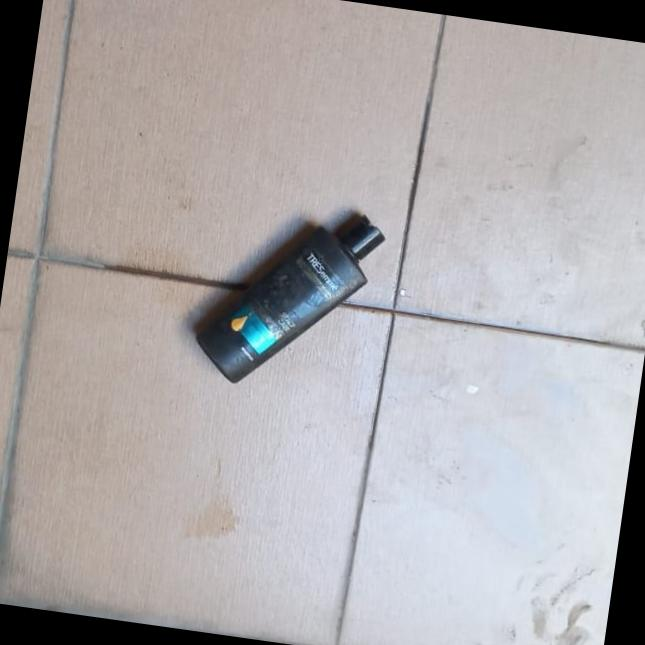Plastik: (190, 192, 388, 400)
